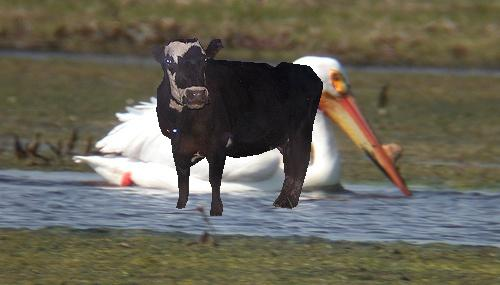tampered: (149, 39, 323, 216)
